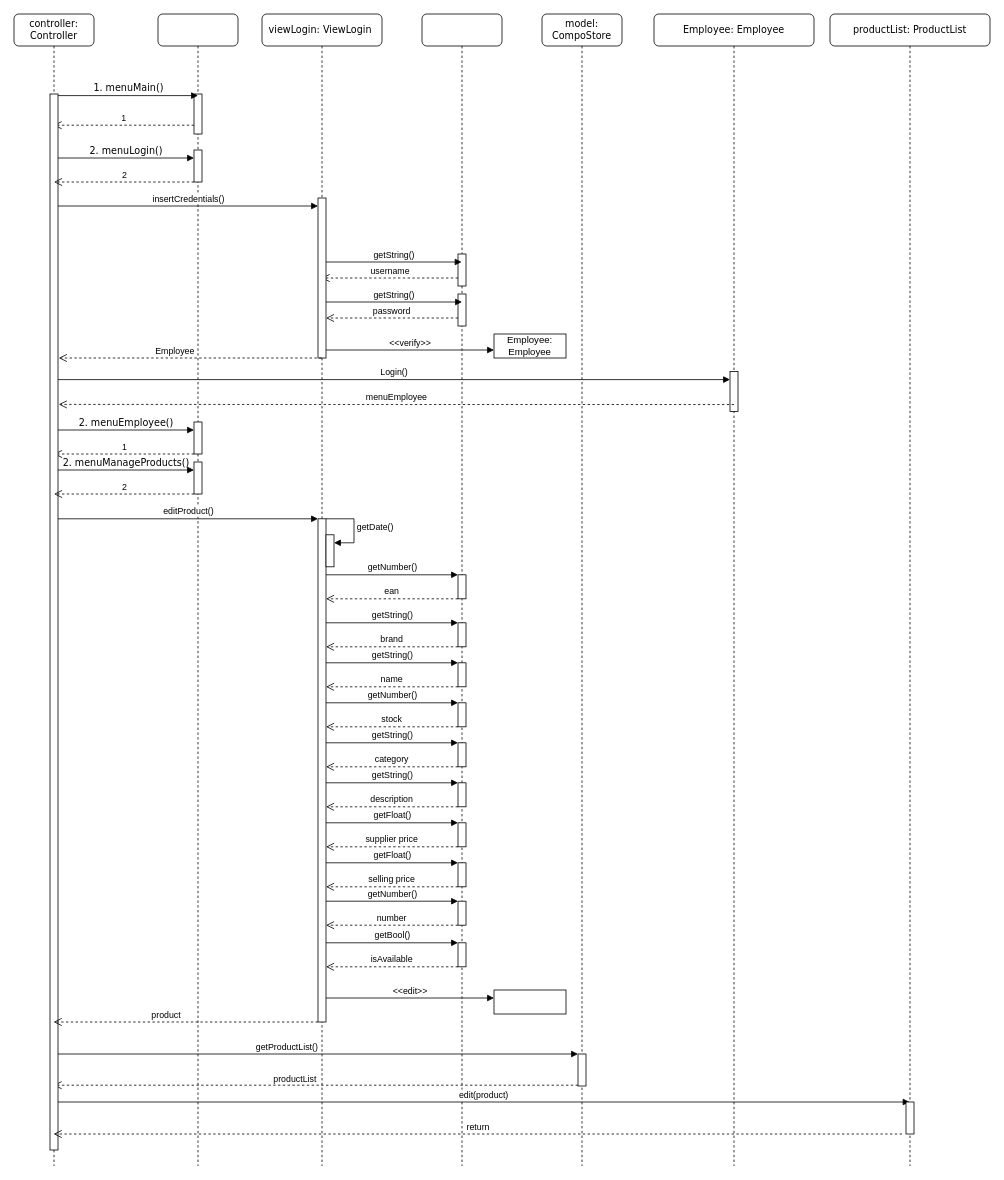
Image size: 1004x1180. Some labels were removed from this diagram. The box of each missing label's shape, as (x1, y1, x2, y2) in pixels:
: Utils: (421, 13, 502, 1166)
product: Product: (493, 989, 566, 1014)
view: View: (157, 13, 238, 1166)
